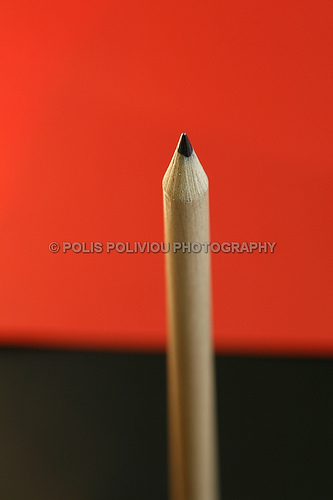pen_tip: (156, 124, 220, 225)
